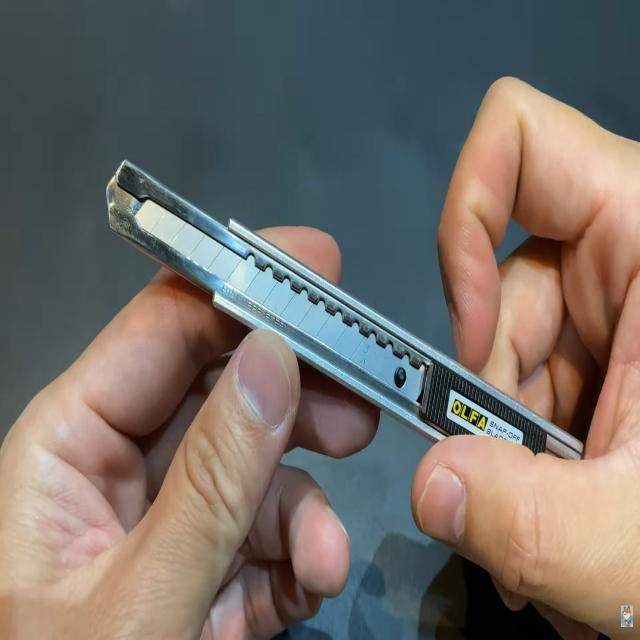cutter: (101, 66, 618, 507)
